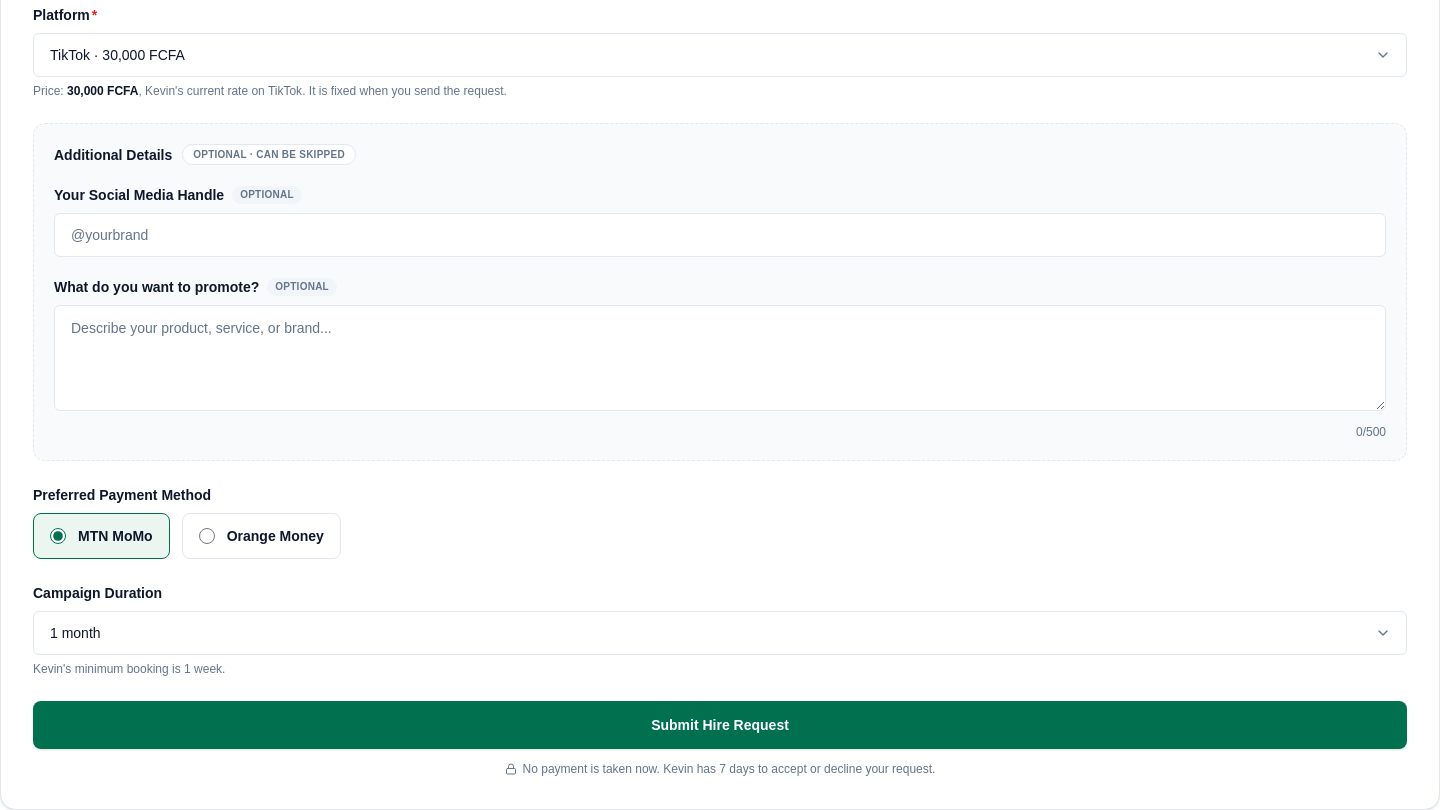
Test: hire form › validates locally and sends nothing
The width and height of the screenshot is (1440, 810).
(page scrolled)
Click the button "Submit Hire Request" at (720, 725), box [33,701,1407,749]
(page scrolled)
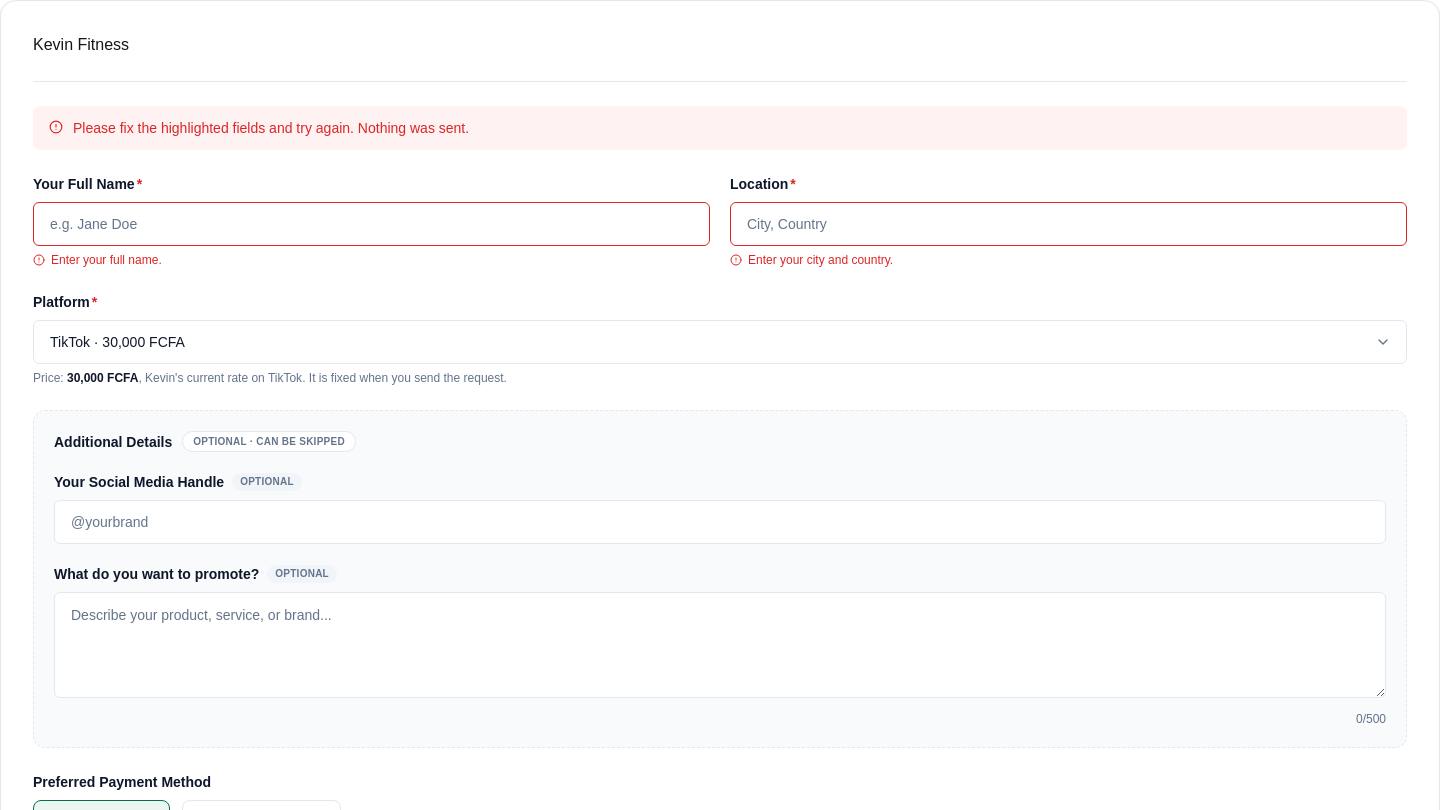
Now the text "Enter your full name." is shown, box [33,253,162,267]
Now the message shows "Nothing was sent", box [73,120,469,136]
